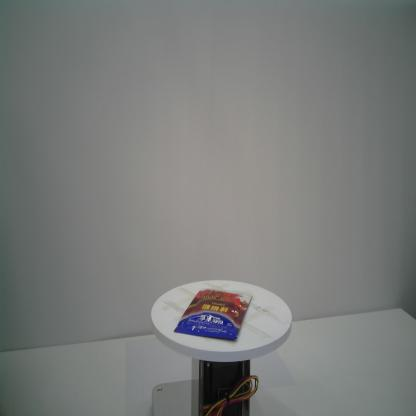Seasoner: (173, 285, 253, 342)
